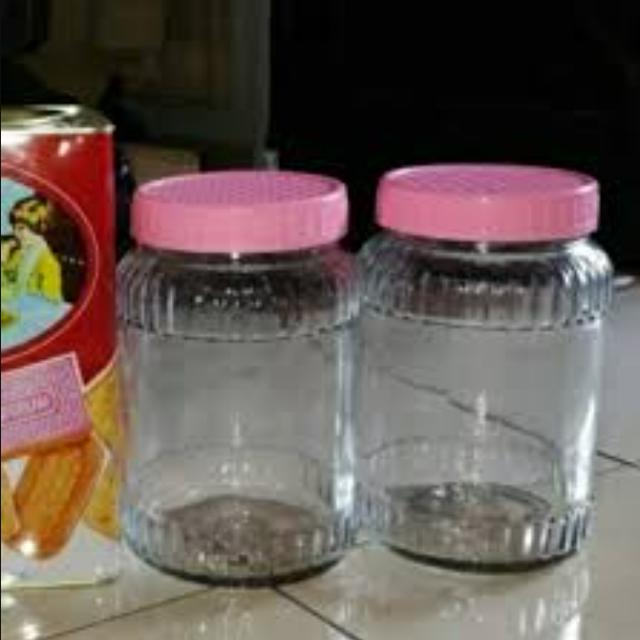ToplesKaca: (110, 152, 623, 585), (358, 159, 614, 571), (115, 171, 357, 583)
